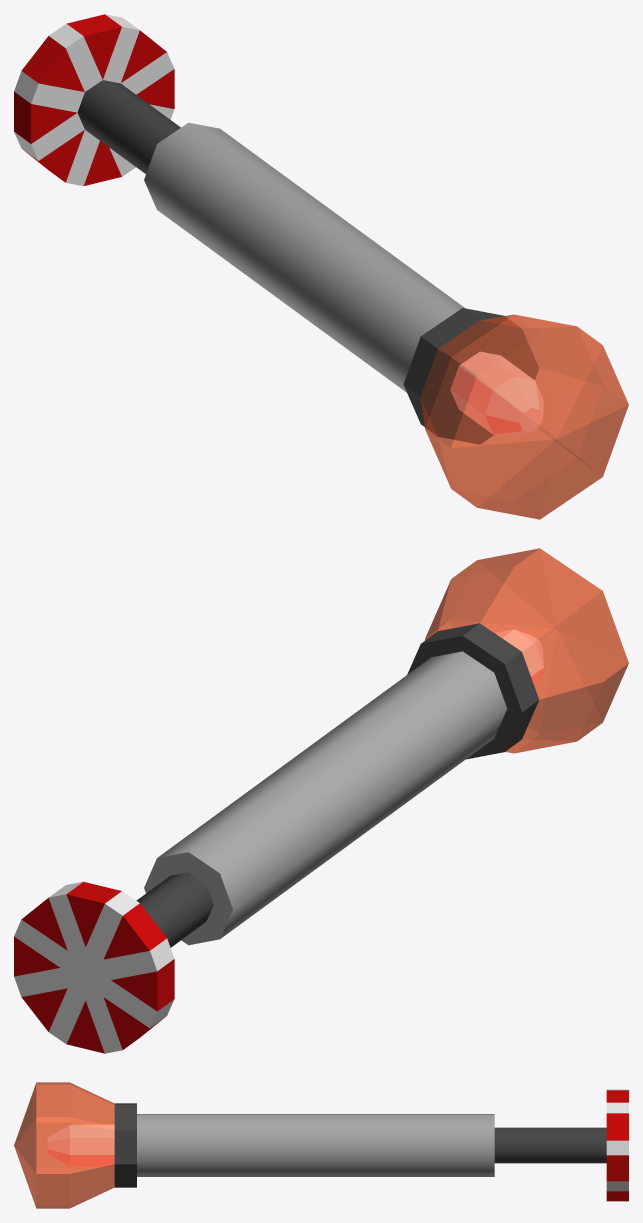
The model's file is Plunger.fbx.
The picture shows the model from 3 angles, top to bottom: view 1: azimuth 30°, elevation 25°; view 2: azimuth 150°, elevation 25°; view 3: azimuth 270°, elevation 25°; orthographic projection. The views are drawn at different scales.
Parts seen in each view (by area): view 1: Plunger; view 2: Plunger; view 3: Plunger.
Part boxes in pixels (x1,y1,x2,y2): Plunger: (14,14,628,519); Plunger: (14,548,628,1053); Plunger: (14,1082,628,1208).
Bounding box in the file's own units: 60 × 60 × 275.
